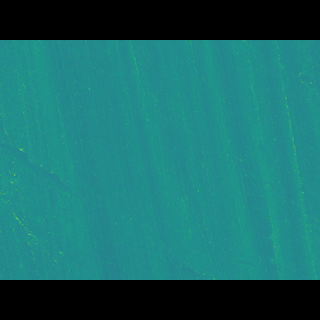Loch: (0, 143, 283, 244)
